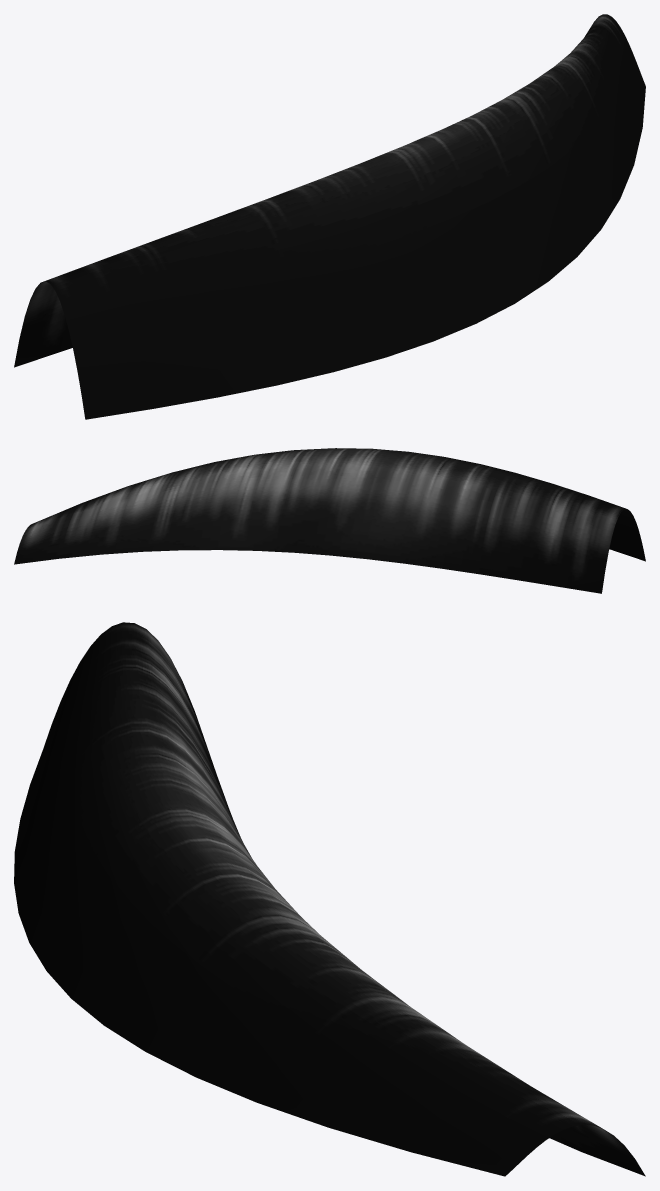
Rendered from 0439_suishenlang.glb.
The picture shows the model from 3 angles, top to bottom: view 1: azimuth 30°, elevation 25°; view 2: azimuth 150°, elevation 25°; view 3: azimuth 270°, elevation 25°; orthographic projection. The views are drawn at different scales.
Size of the model in its own units: 2.2 by 0.3629 by 1.37.
1 material, 1 textured.
